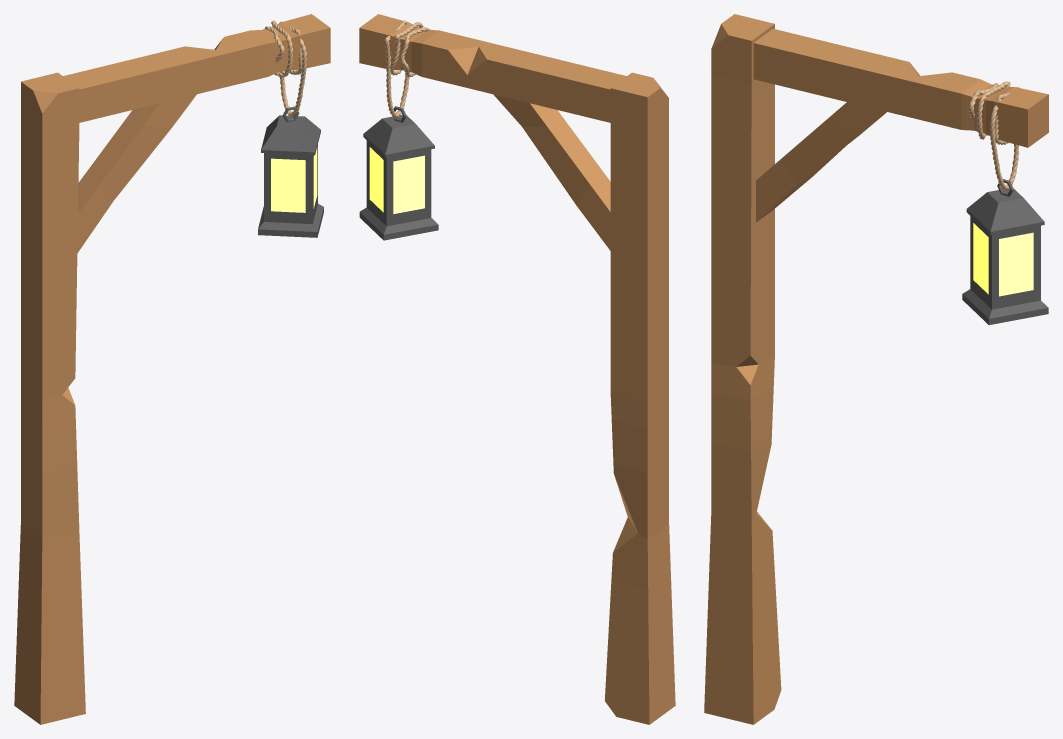
File: lantern.fbx
3 views of the same model, side by side, from view 1: azimuth 30°, elevation 25°; view 2: azimuth 150°, elevation 25°; view 3: azimuth 330°, elevation 25° (orthographic). The views are drawn at different scales.
Parts seen in each view (by area): view 1: Plane.002; view 2: Plane.002; view 3: Plane.002.
Part boxes in pixels (x1,y1,x2,y2): Plane.002: (14,14,330,724); Plane.002: (359,14,675,724); Plane.002: (704,14,1048,724).
Bounding box in the file's own units: 1617 × 3226 × 391.
